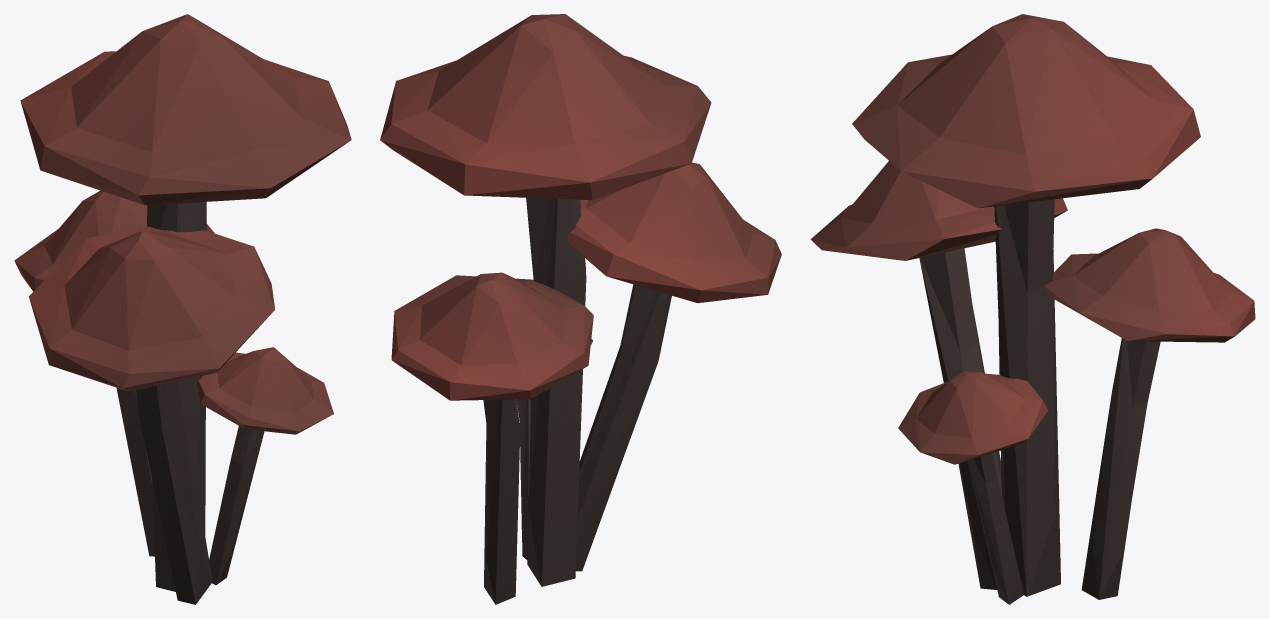
File: Mush_1E.fbx
The picture shows the model from 3 angles, left to right: view 1: azimuth 30°, elevation 25°; view 2: azimuth 150°, elevation 25°; view 3: azimuth 270°, elevation 25°; orthographic projection. The views are drawn at different scales.
Parts seen in each view (by area): view 1: polySurface1315; view 2: polySurface1315; view 3: polySurface1315.
Boxes of the visible parts, box(x1,y1,x2,y2) form: polySurface1315: box(14, 14, 351, 604); polySurface1315: box(380, 14, 781, 604); polySurface1315: box(810, 14, 1255, 604).
Bounding box in the file's own units: 1.03 × 1.69 × 1.18.
